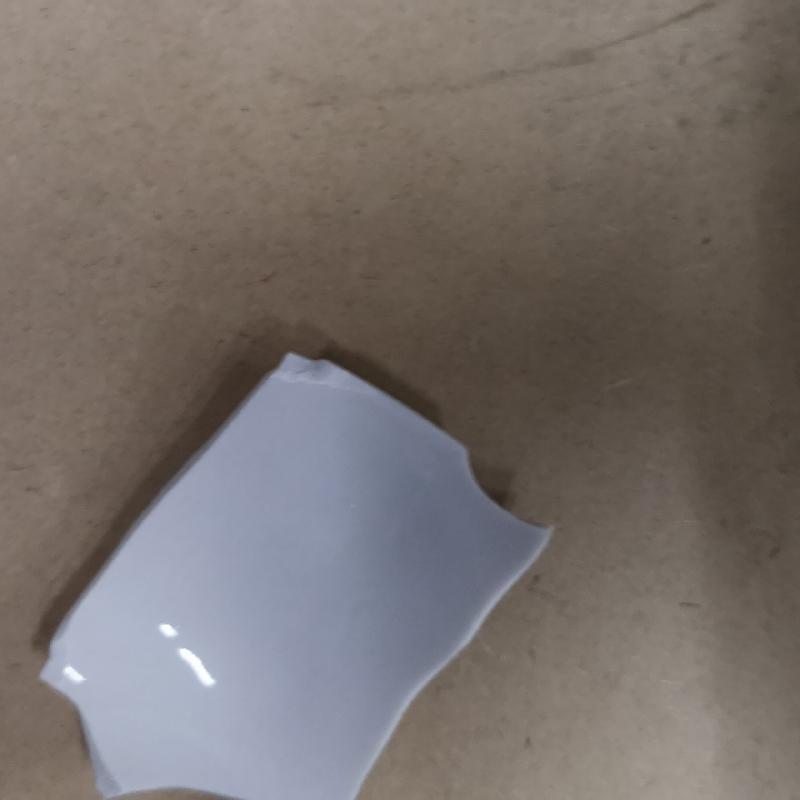ceram: (31, 345, 556, 800)
